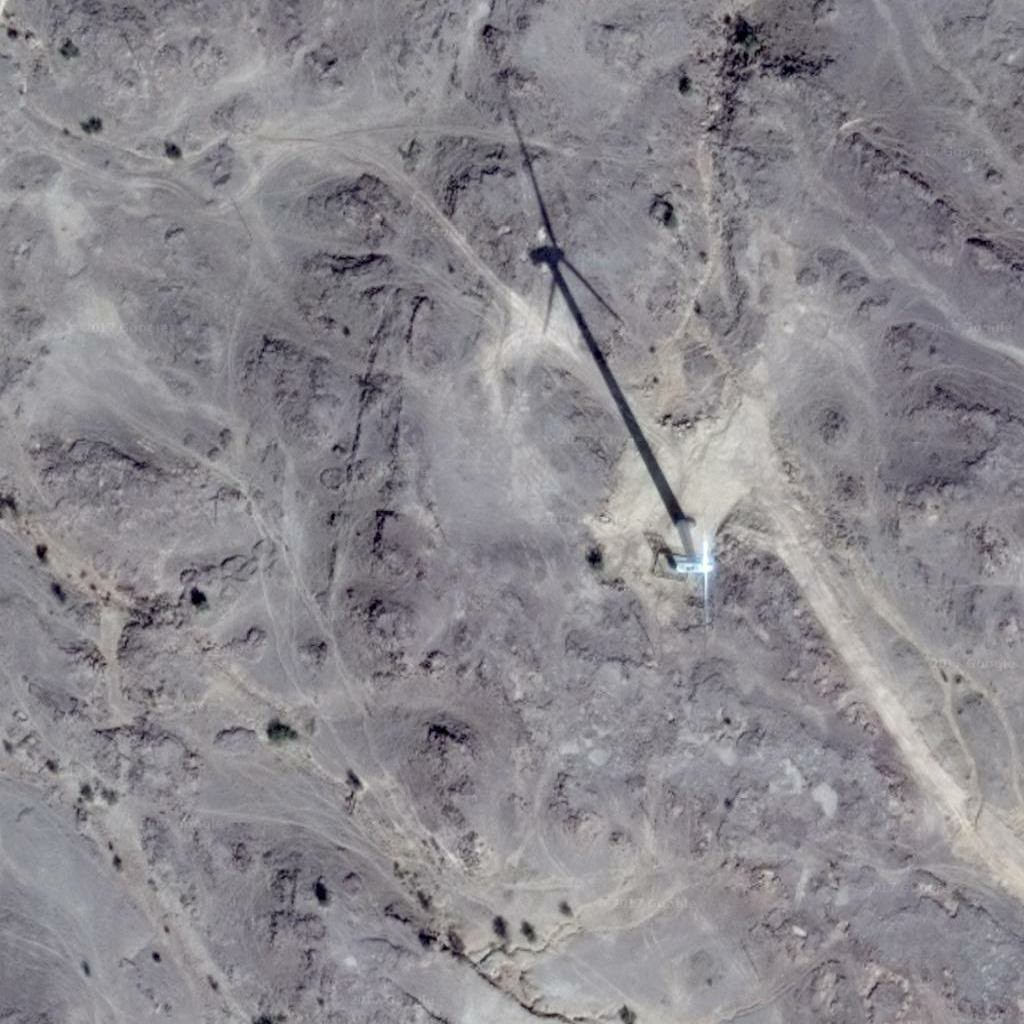Windmill: (495, 88, 695, 519)
